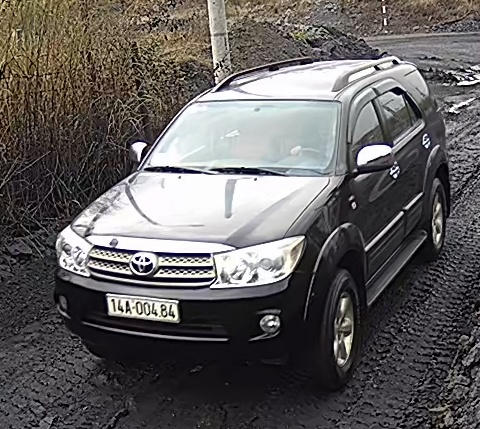vehicle plate: (105, 290, 184, 323)
